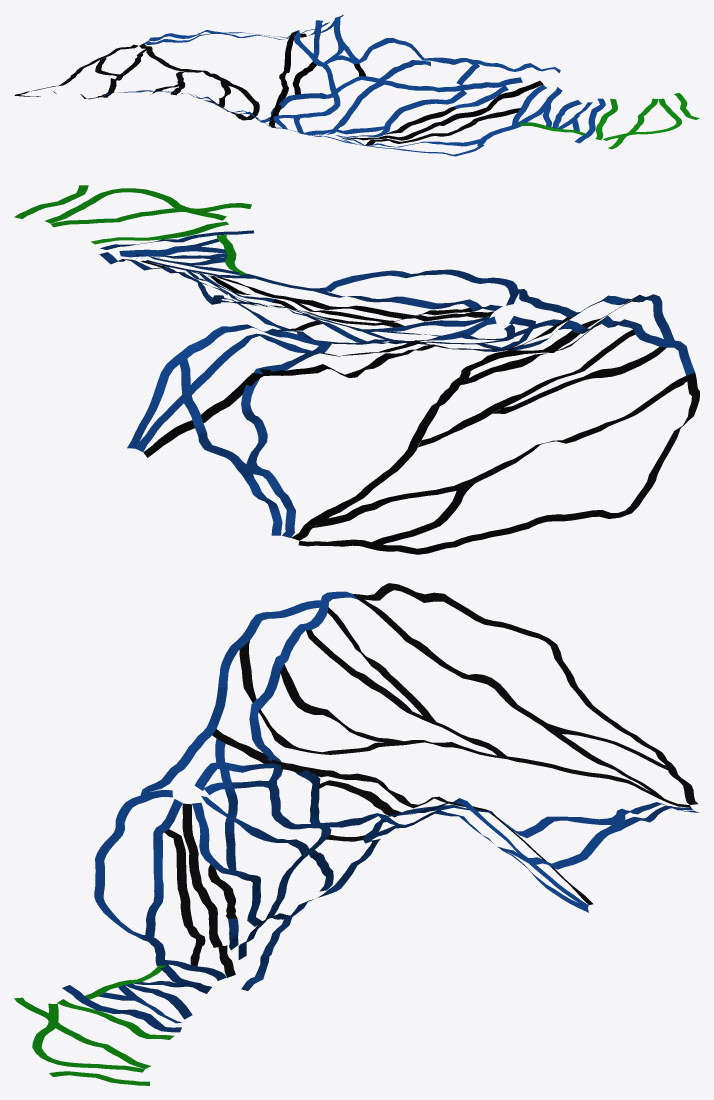
The model's file is traks.obj.
3 renders of one model, top to bottom at view 1: azimuth 30°, elevation 25°; view 2: azimuth 150°, elevation 25°; view 3: azimuth 270°, elevation 25°, orthographic. The views are drawn at different scales.
Parts seen in each view (by area): view 1: blue, black, green, black_double; view 2: blue, black, black_double, green; view 3: blue, black, black_double, green.
Part boxes in pixels (x1,y1,x2,y2): blue: (101, 15, 605, 156); black: (95, 43, 543, 145); green: (520, 93, 699, 149); black_double: (14, 31, 316, 127); blue: (98, 230, 694, 537); black: (141, 260, 696, 544); black_double: (143, 317, 699, 554); green: (14, 185, 251, 274); blue: (62, 591, 698, 1032); black: (164, 594, 690, 977); black_double: (212, 583, 698, 904); green: (14, 965, 174, 1085).
Bounding box in the file's own units: 49.3 × 7.56 × 35.75.
